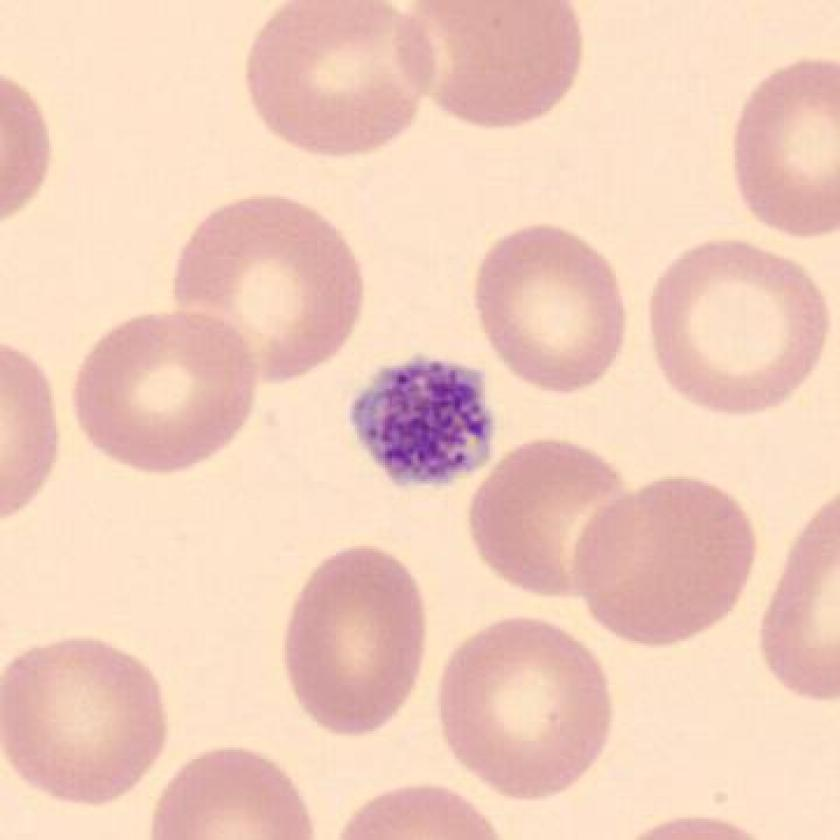platelets: (337, 343, 512, 501)
